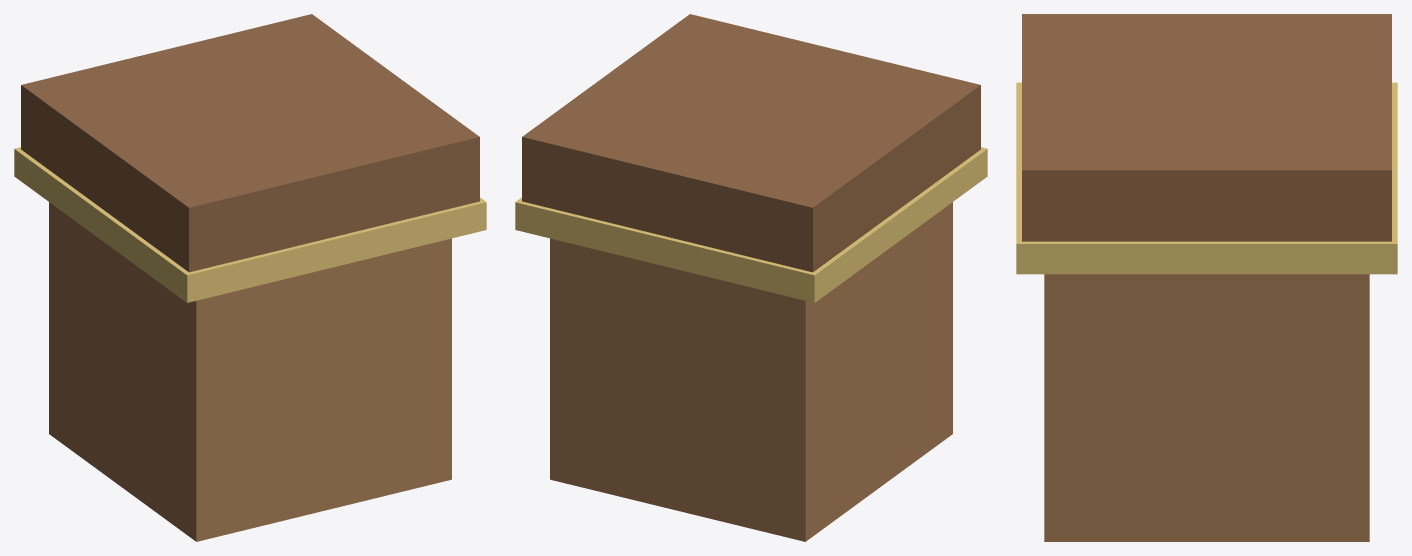
File: ladino_manga_sup.glb
3 views of the same model, side by side, from view 1: azimuth 30°, elevation 25°; view 2: azimuth 150°, elevation 25°; view 3: azimuth 270°, elevation 25° (orthographic). The views are drawn at different scales.
Parts seen in each view (by area): view 1: ladino_manga_sup; view 2: ladino_manga_sup; view 3: ladino_manga_sup.
Boxes of the visible parts, x1,y1,x2,y2 form: ladino_manga_sup: (14, 14, 486, 541); ladino_manga_sup: (515, 14, 987, 541); ladino_manga_sup: (1016, 14, 1397, 541).
Size of the model in its own units: 0.34 by 0.375 by 0.34.
